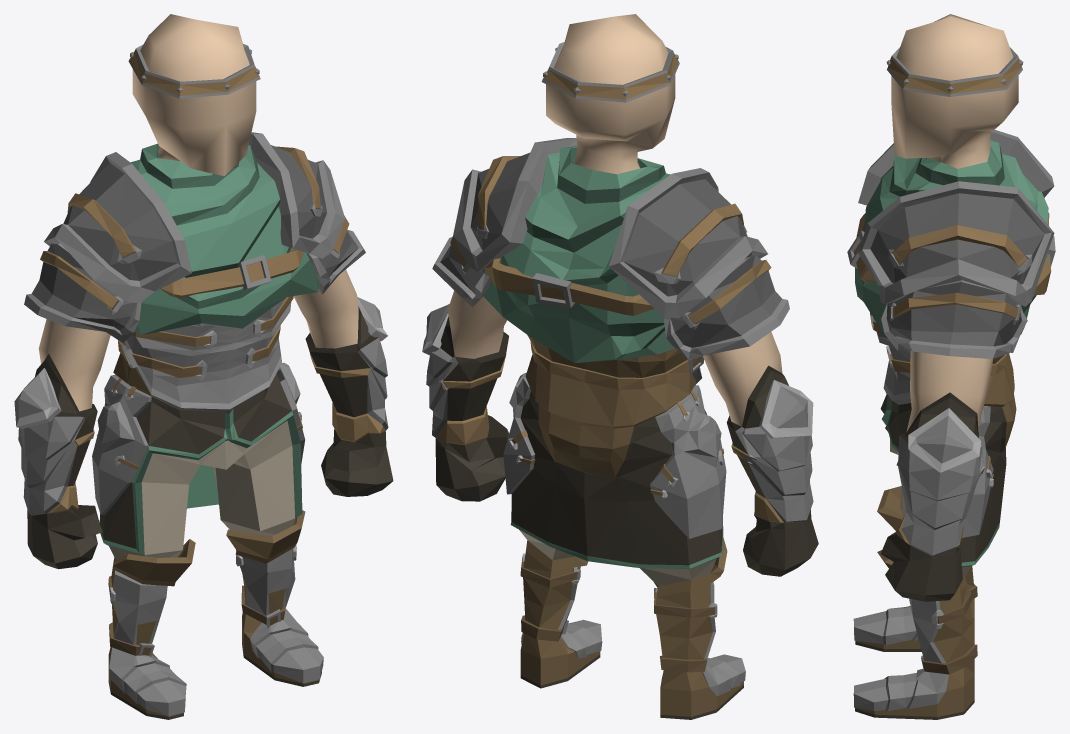
File: ARMOR_NobleWarrior.fbx
The picture shows the model from 3 angles, left to right: view 1: azimuth 30°, elevation 25°; view 2: azimuth 150°, elevation 25°; view 3: azimuth 270°, elevation 25°; orthographic projection. The views are drawn at different scales.
Visible parts, largest first — view 1: ARMOR_NobleWarrior_06exp:nobelwarrior, ARMOR_NobleWarrior_06exp:nobelwarrior_mantle, ARMOR_NobleWarrior_06exp:skintest; view 2: ARMOR_NobleWarrior_06exp:nobelwarrior, ARMOR_NobleWarrior_06exp:nobelwarrior_mantle, ARMOR_NobleWarrior_06exp:skintest; view 3: ARMOR_NobleWarrior_06exp:nobelwarrior, ARMOR_NobleWarrior_06exp:nobelwarrior_mantle, ARMOR_NobleWarrior_06exp:skintest.
Part boxes in pixels (x1,y1,x2,y2): ARMOR_NobleWarrior_06exp:nobelwarrior: [14, 44, 393, 719]; ARMOR_NobleWarrior_06exp:nobelwarrior_mantle: [24, 132, 365, 342]; ARMOR_NobleWarrior_06exp:skintest: [38, 14, 358, 411]; ARMOR_NobleWarrior_06exp:nobelwarrior: [422, 42, 818, 719]; ARMOR_NobleWarrior_06exp:nobelwarrior_mantle: [432, 138, 789, 363]; ARMOR_NobleWarrior_06exp:skintest: [447, 14, 782, 426]; ARMOR_NobleWarrior_06exp:nobelwarrior: [853, 47, 1023, 719]; ARMOR_NobleWarrior_06exp:nobelwarrior_mantle: [847, 129, 1055, 358]; ARMOR_NobleWarrior_06exp:skintest: [891, 14, 1018, 436].
Size of the model in its own units: 526 by 877 by 252.
